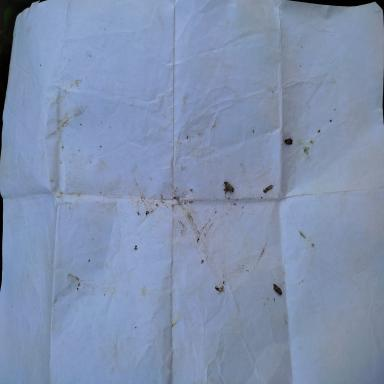pbw: (224, 181, 234, 192), (273, 283, 282, 295), (263, 184, 274, 192), (284, 133, 292, 144)
